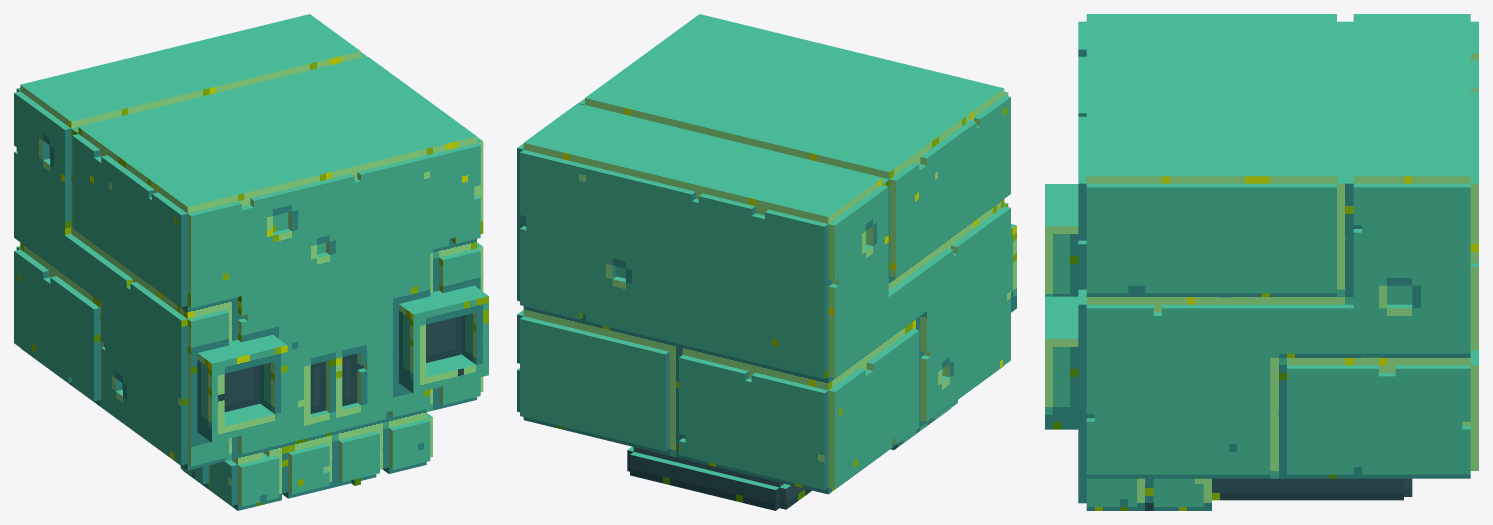
File: skullao.fezao.glb
3 views of the same model, side by side, from view 1: azimuth 30°, elevation 25°; view 2: azimuth 150°, elevation 25°; view 3: azimuth 270°, elevation 25° (orthographic). The views are drawn at different scales.
Visible parts, largest first — view 1: SKULLAO; view 2: SKULLAO; view 3: SKULLAO.
Part boxes in pixels (x1,y1,x2,y2): SKULLAO: (14, 14, 488, 510); SKULLAO: (517, 14, 1016, 510); SKULLAO: (1045, 14, 1478, 510).
Size of the model in its own units: 3 by 3 by 3.25.
Materials: 1 (1 with a texture image).
